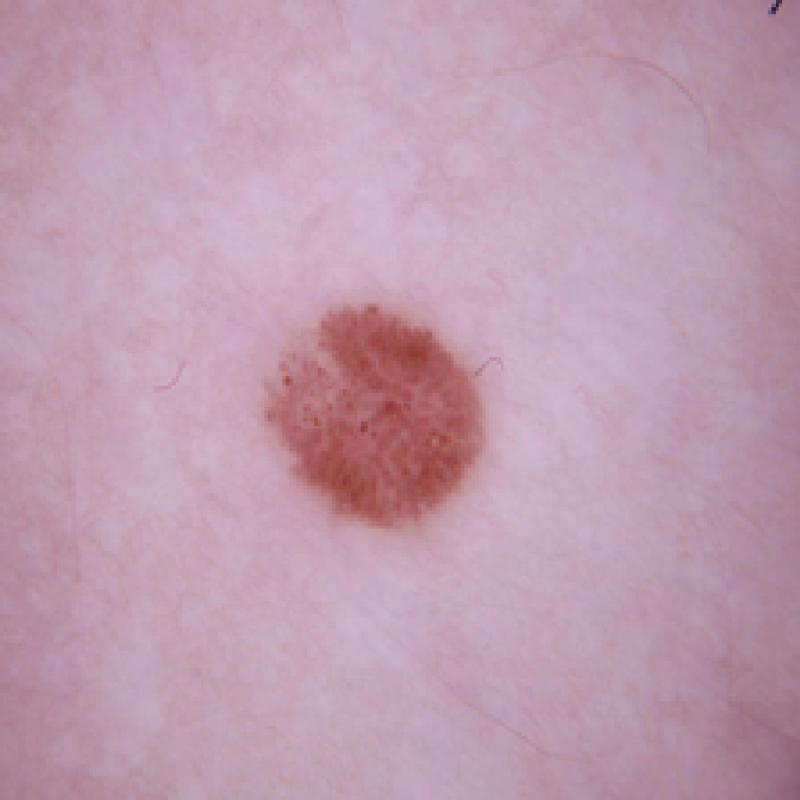benign: (250, 289, 514, 535)
